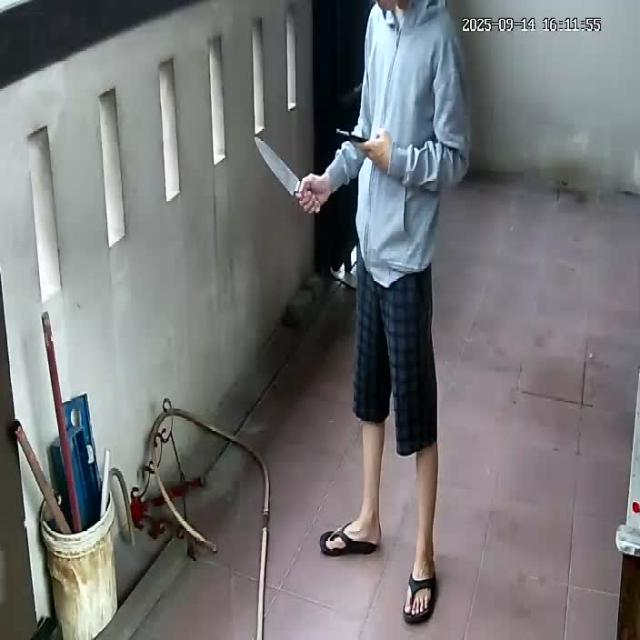senjata_tajam: (251, 134, 303, 198)
